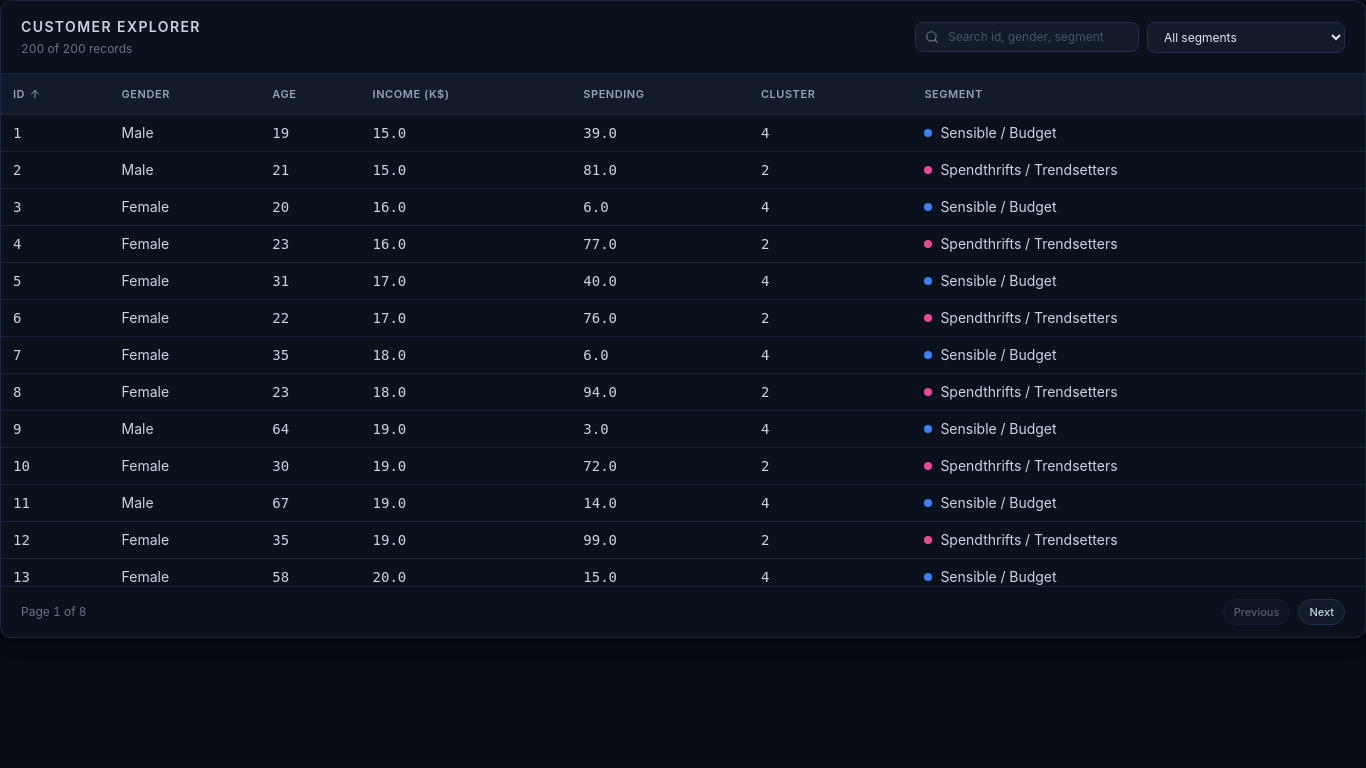
Scenario: CustomerTable › shows an empty state when the search matches nothing
The width and height of the screenshot is (1366, 768).
Type "zzzzz-no-match" into the search field named "search customers".
click(1027, 37); type("zzzzz-no-match")  # box [915, 22, 1139, 52]
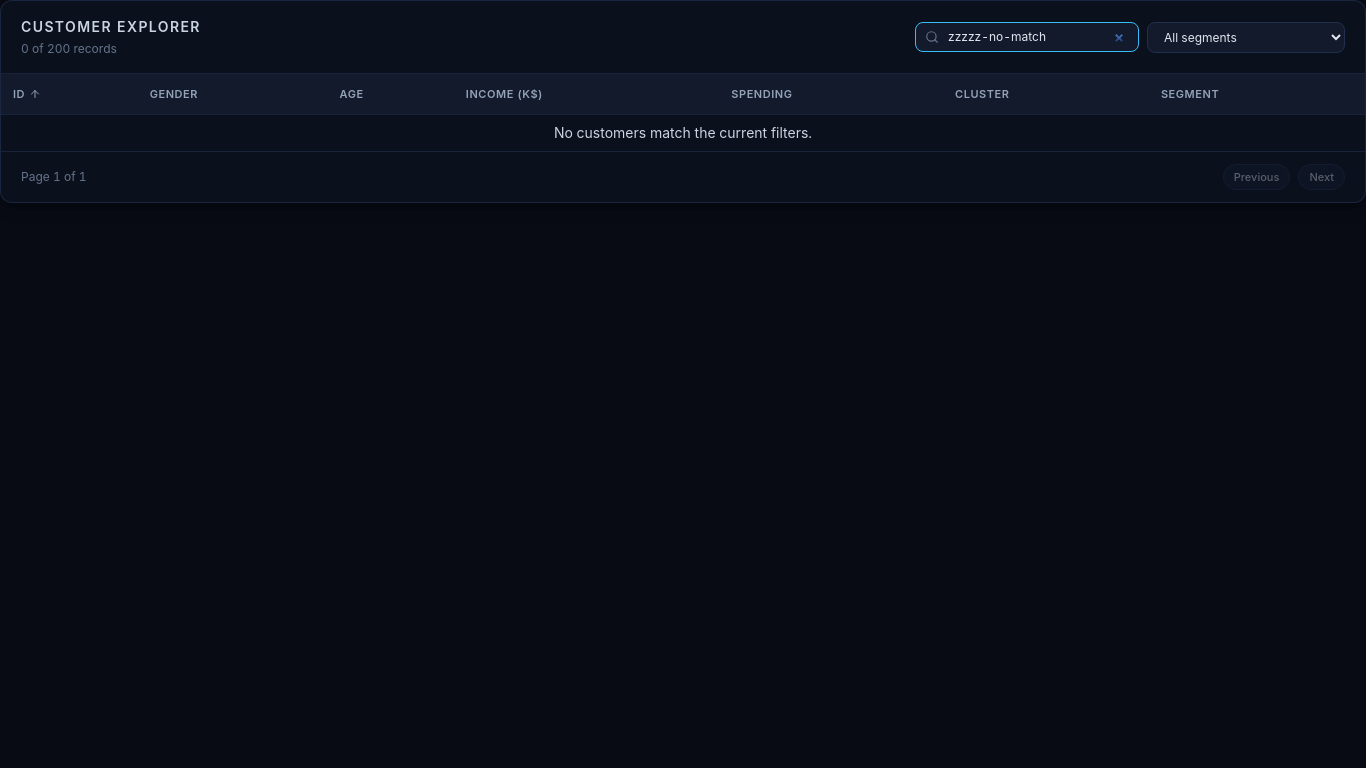
Now the text "No customers match the current filters." is shown, box [1, 114, 1365, 151]
